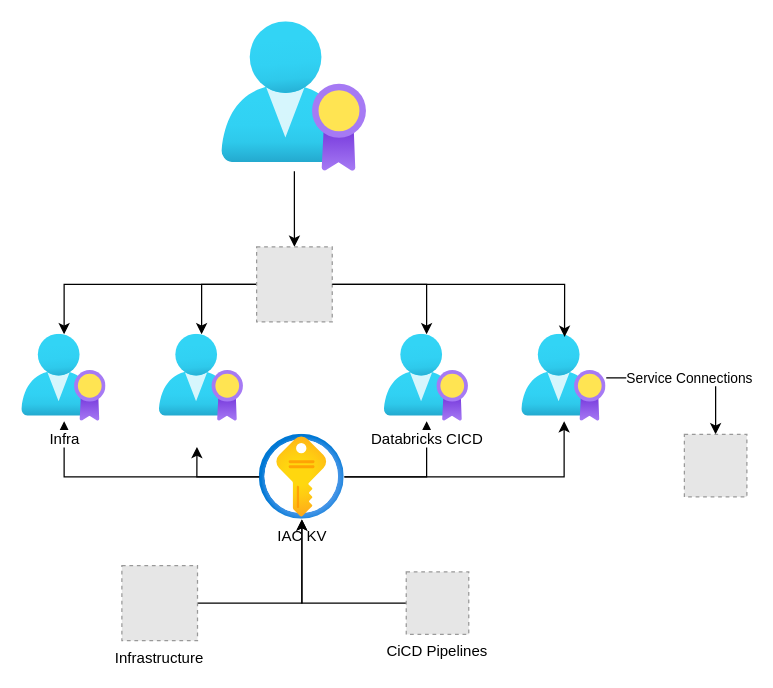
The diagram is 773 pixels wide and 688 high, and some of its shapes have lost their labels. Grey dashed boxes stand in for pictures. The box of each missing label's shape, as (x1, y1, x2, y2) in pixels:
ADF CICD: (159, 334, 243, 421)
Etc: (521, 334, 606, 421)
Super SP: (221, 21, 366, 171)
